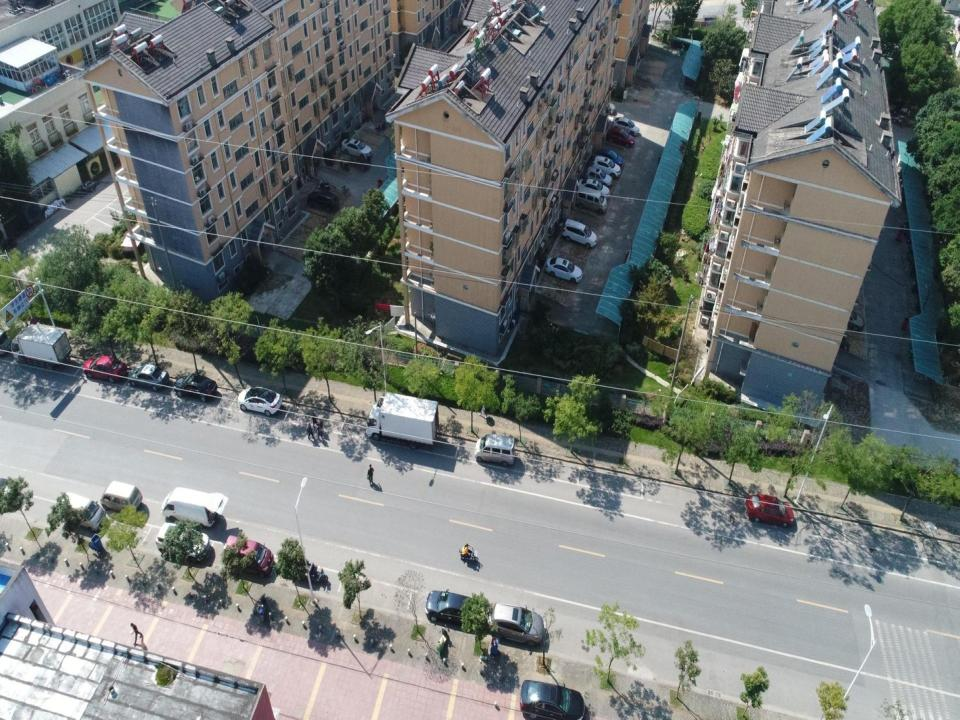car: (424, 588, 489, 633), (488, 602, 547, 648), (519, 680, 585, 720), (155, 522, 211, 565), (223, 534, 275, 575), (745, 493, 795, 528), (83, 352, 128, 385), (238, 386, 284, 417), (173, 372, 218, 403), (129, 362, 169, 393), (562, 218, 598, 249), (545, 256, 583, 284), (306, 189, 339, 212), (578, 177, 610, 200), (340, 138, 372, 160), (592, 155, 621, 178), (606, 126, 635, 148), (609, 116, 640, 136), (585, 165, 612, 186), (595, 147, 623, 166), (842, 310, 865, 333)
truck: (366, 390, 439, 450), (10, 322, 72, 365)
van: (160, 485, 229, 528), (63, 490, 105, 532), (100, 478, 143, 514), (474, 433, 515, 467), (575, 184, 608, 214)
